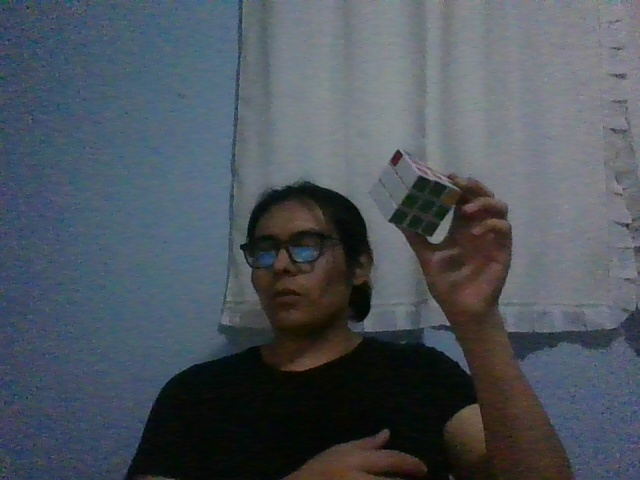rubik: (367, 148, 462, 237)
